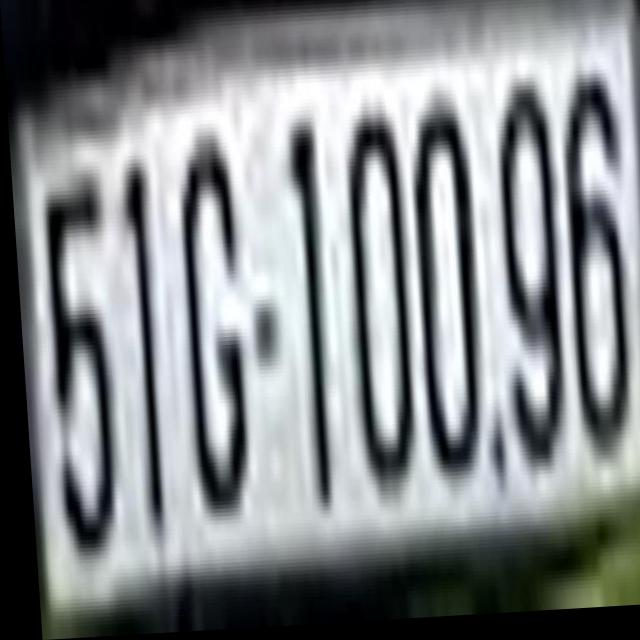0: (404, 103, 483, 516), (337, 98, 416, 493)
1: (278, 125, 332, 535), (117, 157, 168, 542)
5: (37, 166, 117, 553)
6: (554, 57, 635, 463)
9: (487, 75, 567, 474)
G: (170, 106, 253, 539)
